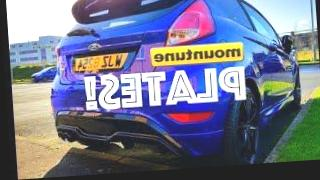License_Plate: (68, 49, 131, 75)
